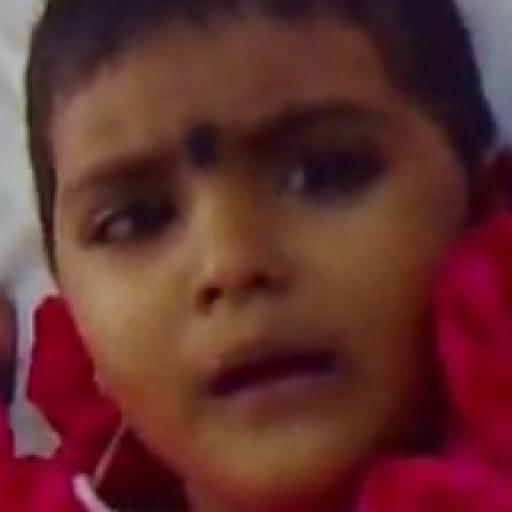Autism: (53, 12, 475, 470)
